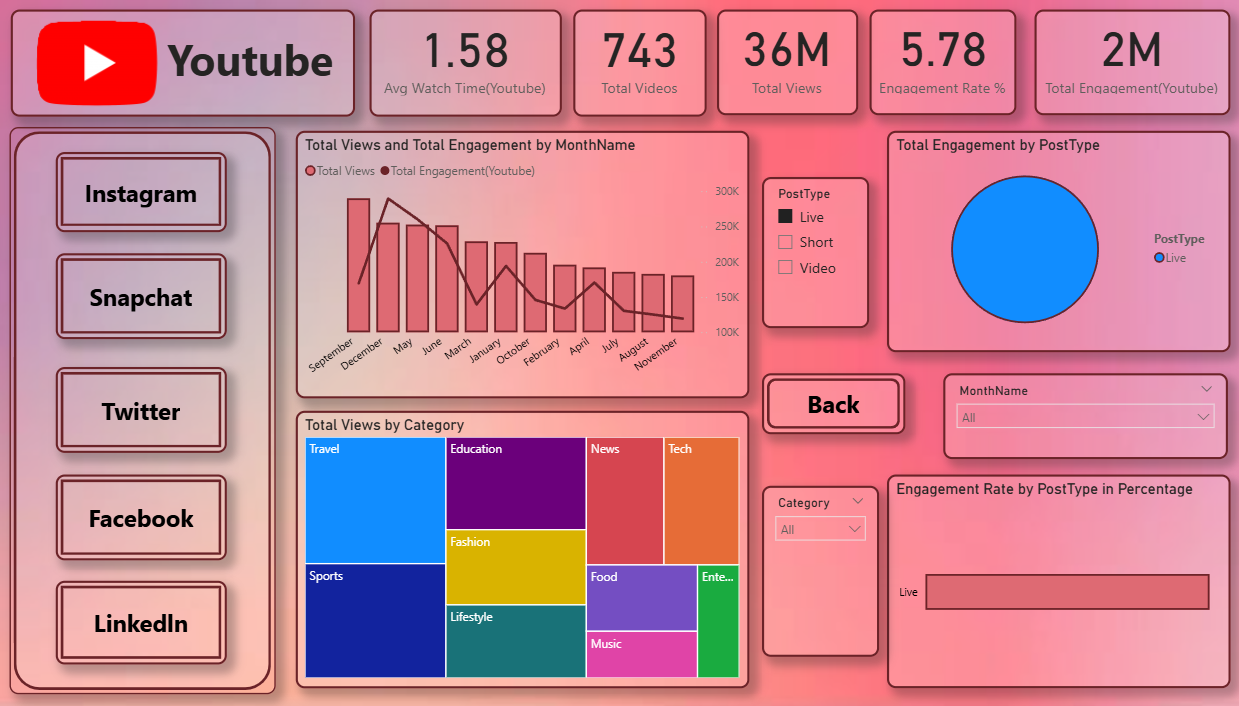

Layout of this report page (visuals, bound fields, positions):
{"tool":"powerbi","page":{"name":"Youtube","canvas":[1400,800],"ordinal":5},"visuals":[{"type":"textbox","box":[15.1,13.7,387.7,120.5],"z":0},{"type":"image","box":[15.1,13.7,197.3,119.2],"z":1000},{"type":"card","fields":{"Values":["YouTube_Data.Avg Watch Time(Youtube)"]},"box":[419.2,13.7,216.4,120.5],"z":2000},{"type":"card","fields":{"Values":["YouTube_Data.Engagement Rate %"]},"box":[983.6,13.7,165.8,119.2],"z":3000},{"type":"card","fields":{"Values":["YouTube_Data.Total Engagement(Youtube)"]},"box":[1168.5,13.7,220.5,119.2],"z":4000},{"type":"card","fields":{"Values":["YouTube_Data.Total Videos"]},"box":[649.3,13.7,150.7,120.5],"z":5000},{"type":"card","fields":{"Values":["YouTube_Data.Total Views"]},"box":[811,13.7,158.9,119.2],"z":6000},{"type":"lineStackedColumnComboChart","title":"Total Views and Total Engagement by MonthName","fields":{"Category":["YouTube_Data.MonthName"],"Y":["YouTube_Data.Total Views"],"Y2":["YouTube_Data.Total Engagement(Youtube)"]},"box":[336.6,150.7,511.3,301.4],"z":7000},{"type":"pieChart","title":"Total Engagement by PostType","fields":{"Category":["YouTube_Data.PostType"],"Y":["YouTube_Data.Total Engagement(Youtube)"]},"box":[1002.8,150.7,387.3,249.3],"z":8000},{"type":"barChart","title":"Engagement Rate  by PostType in Percentage","fields":{"Category":["YouTube_Data.PostType"],"Y":["YouTube_Data.Engagement Rate %"]},"box":[1002.8,538,387.3,240.8],"z":9000},{"type":"treemap","fields":{"Group":["YouTube_Data.Category"],"Values":["YouTube_Data.Total Views"]},"box":[336.6,466.2,511.3,312.7],"z":10000},{"type":"slicer","fields":{"Values":["YouTube_Data.MonthName"]},"box":[1066.2,423.9,321.1,97.2],"z":11000},{"type":"slicer","fields":{"Values":["YouTube_Data.PostType"]},"box":[862,202.8,121.1,170.4],"z":12000},{"type":"slicer","fields":{"Values":["YouTube_Data.Category"]},"box":[862,550.7,132.4,193],"z":13000},{"type":"actionButton","box":[862,423.9,162,69],"z":14000},{"type":"shape","box":[14.1,146.5,300,639.4],"z":15000},{"type":"actionButton","box":[66.2,288.7,193,97.2],"z":16000},{"type":"actionButton","box":[66.2,416.9,193,97.2],"z":17000},{"type":"actionButton","box":[66.2,538,193,97.2],"z":18000},{"type":"actionButton","box":[66.2,657.7,193,94.4],"z":19000},{"type":"actionButton","box":[66.2,174.6,193,90.1],"z":20000}]}

Visuals, with their boxes in screenshot pixels (x1, y1, x2, y2), scaled from the page's 1400x800 canvas onto the 1239x706 screenshot:
textbox: bbox=[13, 12, 356, 118]
image: bbox=[13, 12, 188, 117]
card - YouTube_Data.Avg Watch Time(Youtube): bbox=[371, 12, 563, 118]
card - YouTube_Data.Engagement Rate %: bbox=[870, 12, 1017, 117]
card - YouTube_Data.Total Engagement(Youtube): bbox=[1034, 12, 1229, 117]
card - YouTube_Data.Total Videos: bbox=[575, 12, 708, 118]
card - YouTube_Data.Total Views: bbox=[718, 12, 858, 117]
"Total Views and Total Engagement by MonthName" lineStackedColumnComboChart: bbox=[298, 133, 750, 399]
"Total Engagement by PostType" pieChart: bbox=[887, 133, 1230, 353]
"Engagement Rate  by PostType in Percentage" barChart: bbox=[887, 475, 1230, 687]
treemap - YouTube_Data.Category x YouTube_Data.Total Views: bbox=[298, 411, 750, 687]
slicer - YouTube_Data.MonthName: bbox=[944, 374, 1228, 460]
slicer - YouTube_Data.PostType: bbox=[763, 179, 870, 329]
slicer - YouTube_Data.Category: bbox=[763, 486, 880, 656]
actionButton: bbox=[763, 374, 906, 435]
shape: bbox=[12, 129, 278, 694]
actionButton: bbox=[59, 255, 229, 341]
actionButton: bbox=[59, 368, 229, 454]
actionButton: bbox=[59, 475, 229, 561]
actionButton: bbox=[59, 580, 229, 664]
actionButton: bbox=[59, 154, 229, 234]
